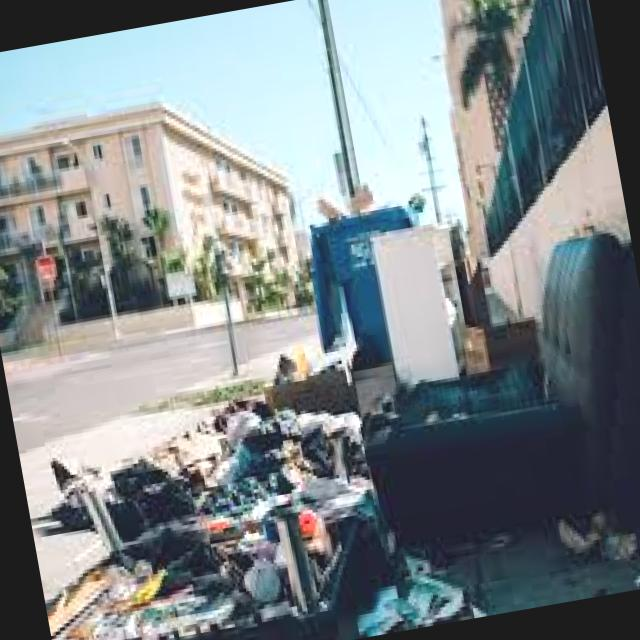garbage: (37, 336, 401, 640)
